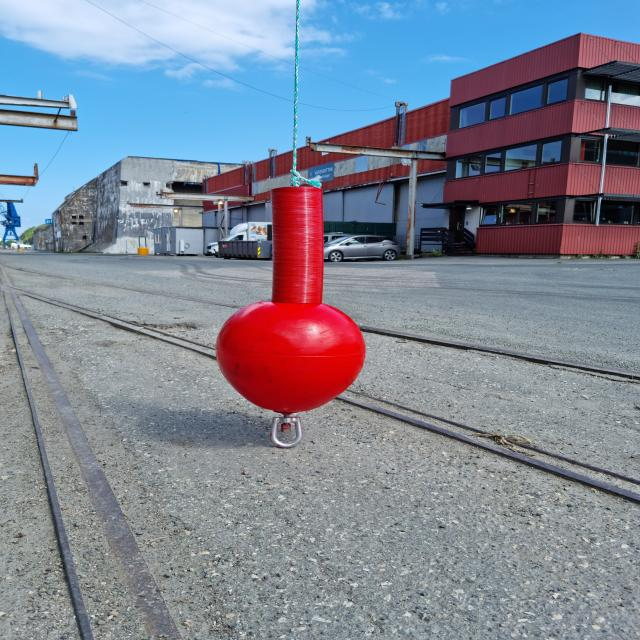red: (216, 186, 367, 413)
